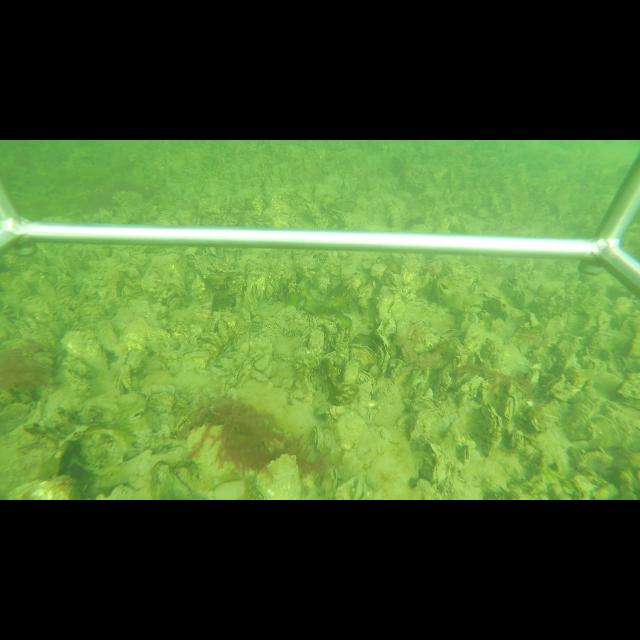Oyster-Closed: (256, 454, 302, 500), (479, 402, 502, 458), (175, 403, 209, 435), (589, 414, 621, 444), (374, 329, 391, 375), (308, 327, 328, 354), (504, 394, 518, 421), (313, 425, 324, 454)
